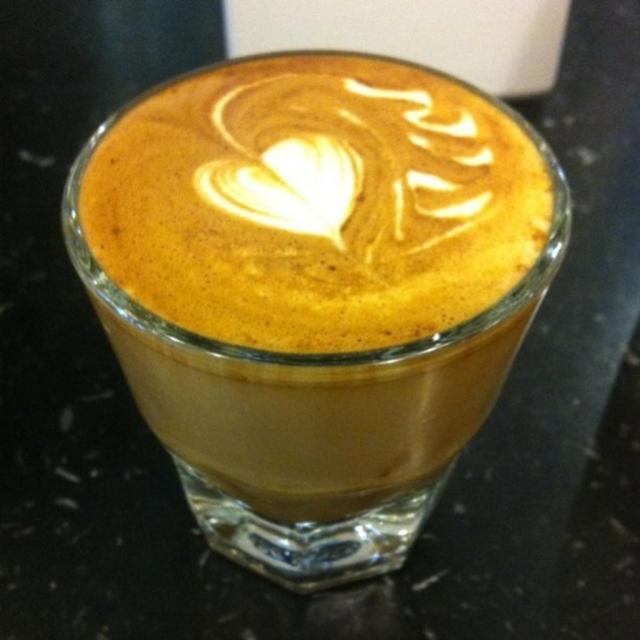latte: (61, 48, 575, 362)
